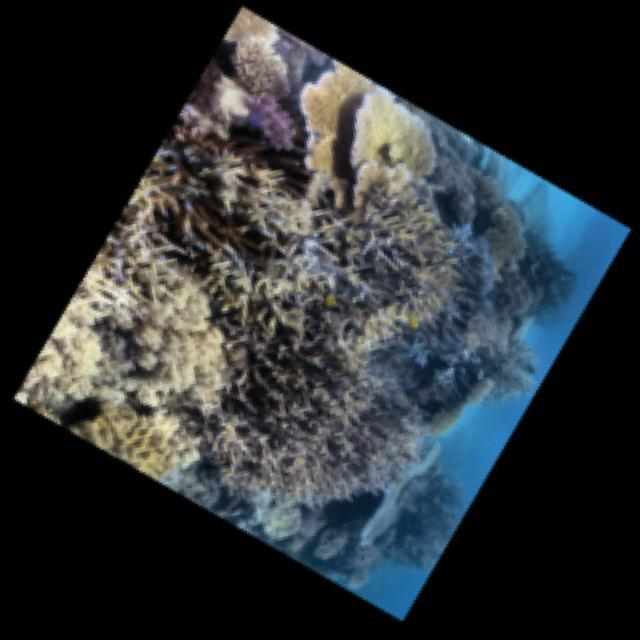Dead Coral: (168, 234, 472, 544), (30, 190, 280, 496), (260, 12, 442, 249), (409, 158, 598, 383), (334, 168, 479, 350), (215, 32, 315, 150)
